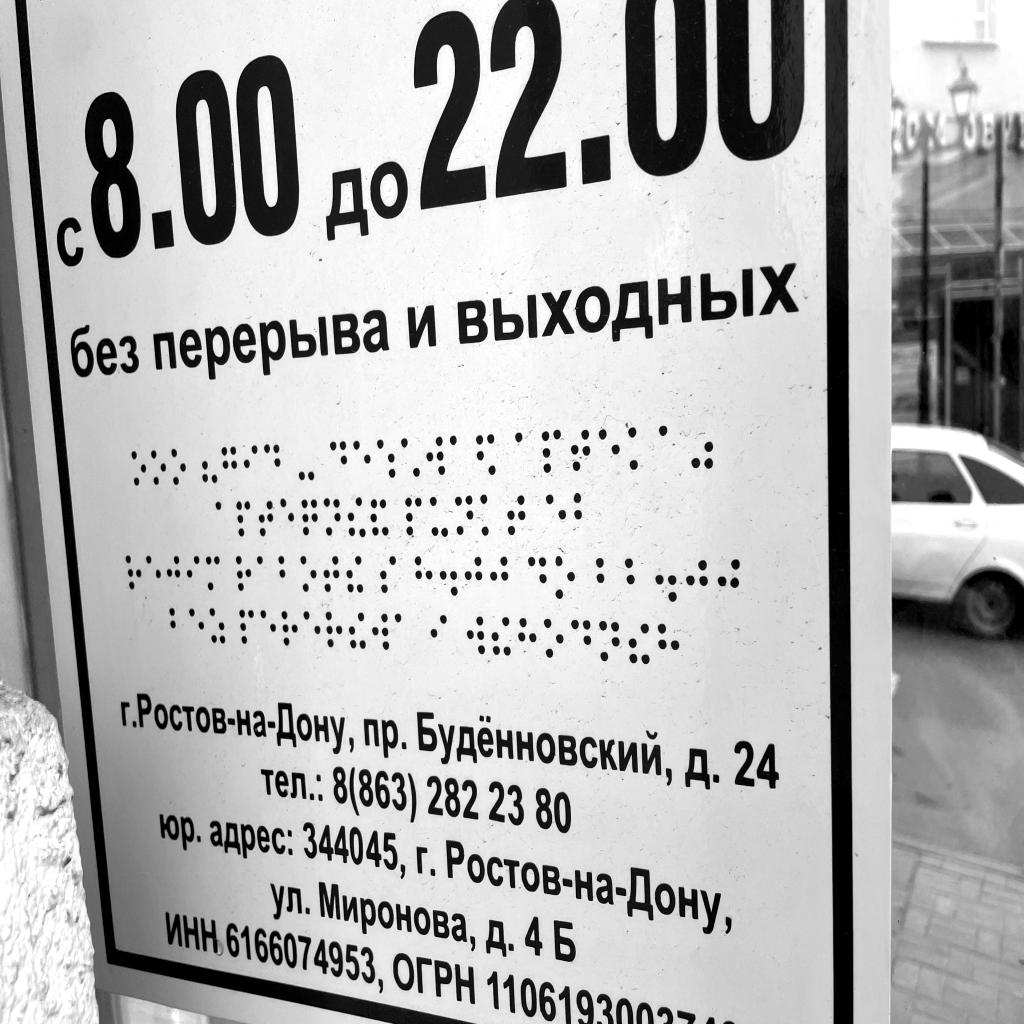_n: (598, 619, 620, 663), (455, 496, 473, 535), (323, 497, 341, 535)
_y: (429, 496, 449, 538)
a: (658, 424, 680, 469), (515, 432, 536, 474), (394, 612, 414, 653), (450, 435, 470, 475), (215, 502, 233, 537), (256, 555, 272, 590)
b: (277, 554, 294, 591), (169, 607, 185, 640)
ch: (300, 498, 319, 536)
d: (570, 617, 592, 663), (528, 555, 547, 596), (329, 439, 347, 476), (263, 444, 281, 479)
defis: (298, 446, 315, 482)
e: (599, 428, 620, 471), (303, 609, 322, 649), (260, 608, 278, 646), (353, 439, 371, 476), (279, 498, 295, 535), (188, 608, 205, 642), (145, 554, 161, 590)
g: (221, 446, 238, 479)
gh: (165, 556, 181, 589)
i: (430, 614, 448, 654), (242, 445, 259, 478), (185, 555, 200, 588)
iKratkoe: (370, 499, 391, 537)
ii: (628, 621, 651, 666), (490, 615, 512, 657), (347, 611, 367, 651), (347, 496, 366, 538), (346, 555, 363, 594)
k: (628, 427, 651, 470), (480, 494, 499, 536)
kavichki1: (202, 449, 219, 484)
kavichki2: (692, 425, 713, 471)
m: (206, 556, 222, 591)
o: (542, 617, 565, 660), (554, 555, 575, 598), (299, 554, 317, 592), (130, 452, 147, 486), (150, 451, 167, 485), (171, 449, 186, 485)
p: (541, 429, 562, 474), (405, 498, 423, 536), (235, 500, 252, 537), (238, 609, 255, 645)
r: (324, 610, 343, 649), (280, 609, 299, 647), (124, 553, 143, 590), (235, 556, 252, 592)
s: (379, 555, 397, 593)
sh: (376, 438, 396, 479)
t: (571, 429, 591, 471), (507, 494, 527, 535), (323, 554, 341, 593), (256, 500, 274, 537)
tochka: (654, 555, 677, 604), (439, 558, 458, 598)
v: (465, 615, 486, 656), (370, 612, 390, 653), (425, 436, 445, 475)
x: (657, 619, 680, 668), (517, 616, 537, 657)
ya: (476, 435, 496, 476)
yo: (402, 439, 421, 477)
z: (208, 608, 226, 644)
